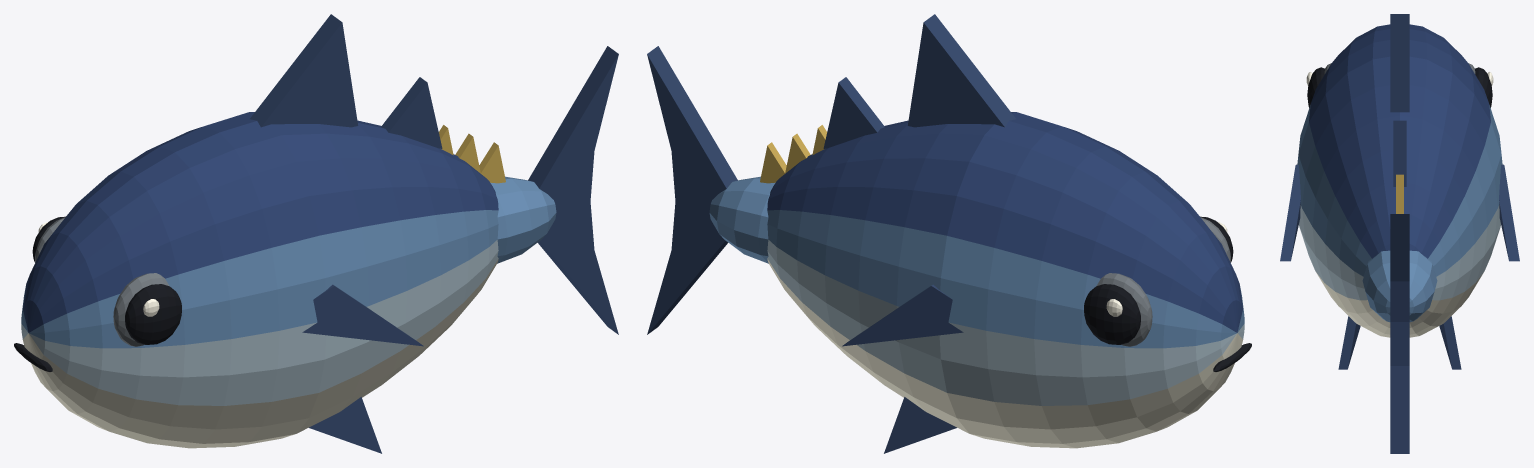
Rendered from Tuna.obj.
3 views of the same model, side by side, from view 1: azimuth 30°, elevation 25°; view 2: azimuth 150°, elevation 25°; view 3: azimuth 270°, elevation 25° (orthographic). The views are drawn at different scales.
Parts seen in each view (by area): view 1: Tuna; view 2: Tuna; view 3: Tuna.
Boxes of the visible parts, x1=… form: Tuna: x1=14, y1=14, x2=618, y2=453; Tuna: x1=647, y1=14, x2=1251, y2=453; Tuna: x1=1280, y1=14, x2=1519, y2=453.
Bounding box in the file's own units: 0.74 × 0.4973 × 0.3076.
